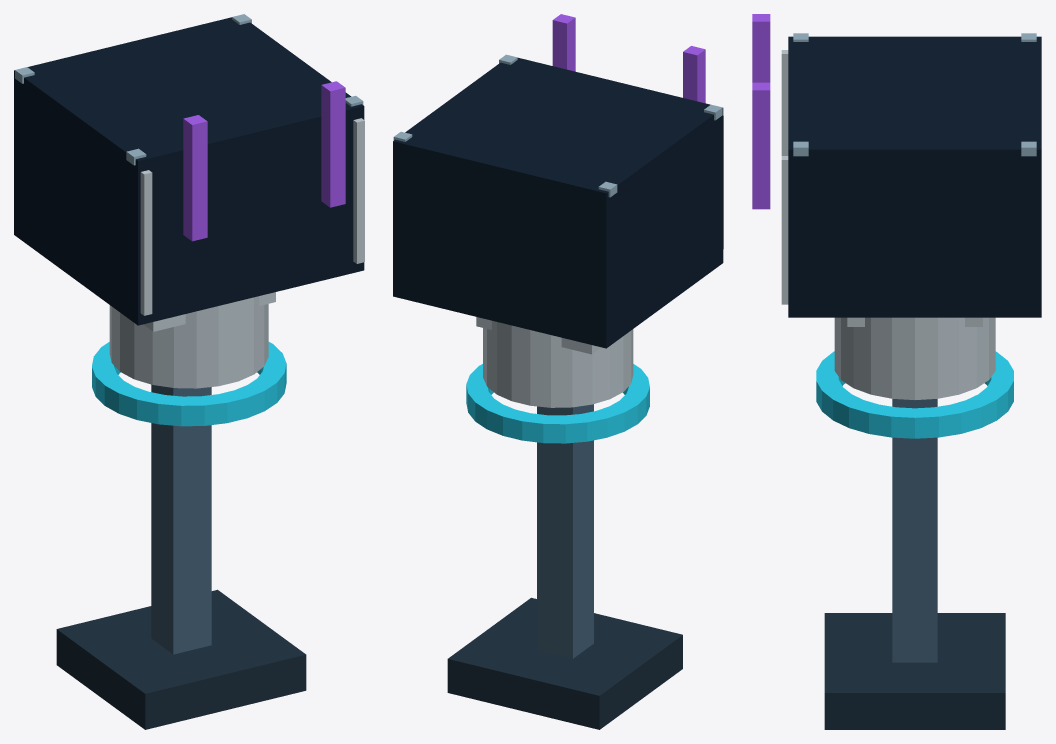
The model's file is 51_L74_PhotoresistPatternDefectCamera.fbx.
The picture shows the model from 3 angles, left to right: view 1: azimuth 30°, elevation 25°; view 2: azimuth 150°, elevation 25°; view 3: azimuth 270°, elevation 25°; orthographic projection. The views are drawn at different scales.
Parts seen in each view (by area): view 1: PhotoresistPatternDefectCamera_Part_0003, PhotoresistPatternDefectCamera, PhotoresistPatternDefectCamera_Part_0010, PhotoresistPatternDefectCamera_Part_0011, PhotoresistPatternDefectCamera_Part_0008, PhotoresistPatternDefectCamera_Part_0009; view 2: PhotoresistPatternDefectCamera_Part_0003, PhotoresistPatternDefectCamera, PhotoresistPatternDefectCamera_Part_0010, PhotoresistPatternDefectCamera_Part_0011; view 3: PhotoresistPatternDefectCamera_Part_0003, PhotoresistPatternDefectCamera, PhotoresistPatternDefectCamera_Part_0010, PhotoresistPatternDefectCamera_Part_0011, PhotoresistPatternDefectCamera_Part_0009, PhotoresistPatternDefectCamera_Part_0008.
Boxes of the visible parts, bbox=[...] form: PhotoresistPatternDefectCamera_Part_0003: bbox=[14, 17, 364, 325]; PhotoresistPatternDefectCamera: bbox=[56, 81, 345, 729]; PhotoresistPatternDefectCamera_Part_0010: bbox=[109, 296, 268, 388]; PhotoresistPatternDefectCamera_Part_0011: bbox=[92, 342, 286, 426]; PhotoresistPatternDefectCamera_Part_0008: bbox=[140, 170, 152, 315]; PhotoresistPatternDefectCamera_Part_0009: bbox=[353, 118, 364, 263]; PhotoresistPatternDefectCamera_Part_0003: bbox=[393, 57, 723, 348]; PhotoresistPatternDefectCamera: bbox=[447, 14, 705, 729]; PhotoresistPatternDefectCamera_Part_0010: bbox=[483, 320, 633, 407]; PhotoresistPatternDefectCamera_Part_0011: bbox=[466, 364, 649, 443]; PhotoresistPatternDefectCamera_Part_0003: bbox=[788, 36, 1041, 317]; PhotoresistPatternDefectCamera: bbox=[752, 14, 1005, 729]; PhotoresistPatternDefectCamera_Part_0010: bbox=[834, 317, 995, 399]; PhotoresistPatternDefectCamera_Part_0011: bbox=[816, 351, 1013, 438]; PhotoresistPatternDefectCamera_Part_0009: bbox=[781, 156, 788, 304]; PhotoresistPatternDefectCamera_Part_0008: bbox=[781, 50, 788, 155].
Bounding box in the file's own units: 59.84 × 156 × 64.
